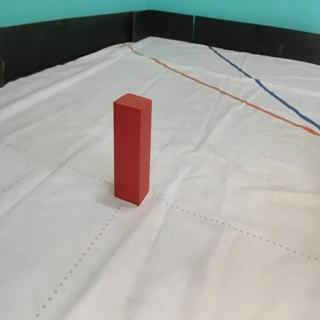redbox: (113, 91, 151, 206)
